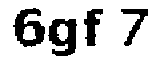6: (8, 6, 45, 50)
7: (119, 4, 149, 48)
f: (80, 6, 110, 50)
g: (47, 17, 83, 60)
